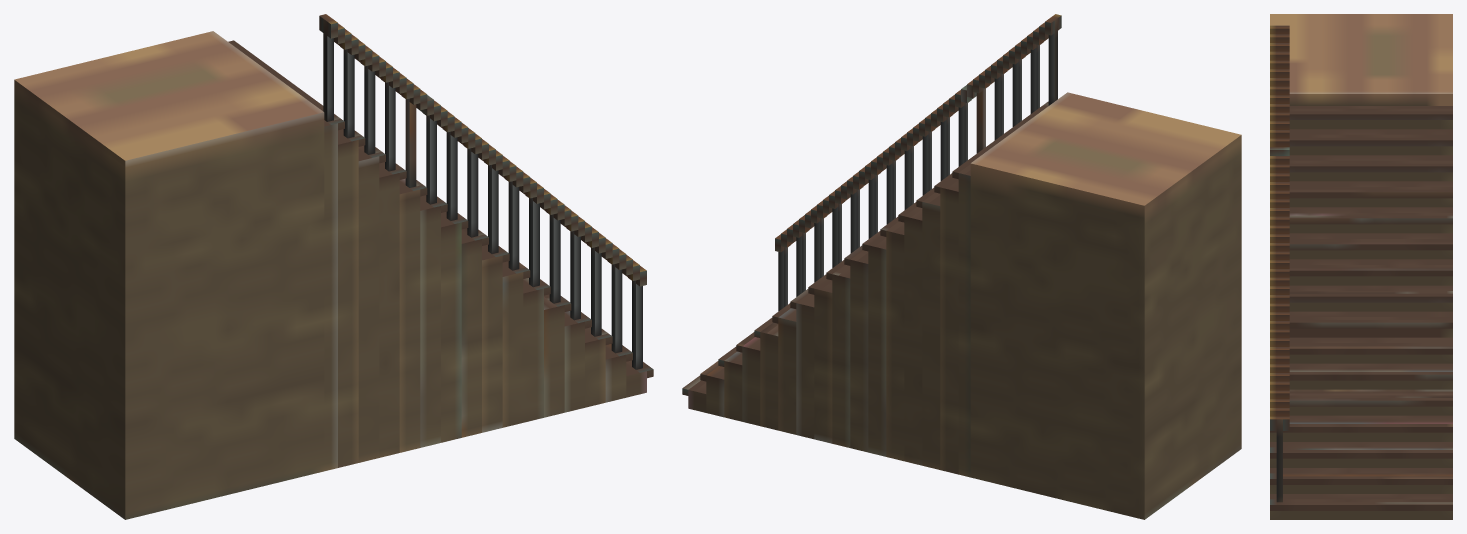
File: Stairwell_01.fbx
3 renders of one model, left to right at view 1: azimuth 30°, elevation 25°; view 2: azimuth 150°, elevation 25°; view 3: azimuth 270°, elevation 25°, orthographic. The views are drawn at different scales.
Parts seen in each view (by area): view 1: Stairwell_01; view 2: Stairwell_01; view 3: Stairwell_01.
Boxes of the visible parts, box(x1,y1,x2,y2) form: Stairwell_01: box(14, 14, 653, 519); Stairwell_01: box(682, 14, 1241, 519); Stairwell_01: box(1270, 14, 1452, 519).
Bounding box in the file's own units: 385 × 140 × 310.
1 material, 1 textured.
